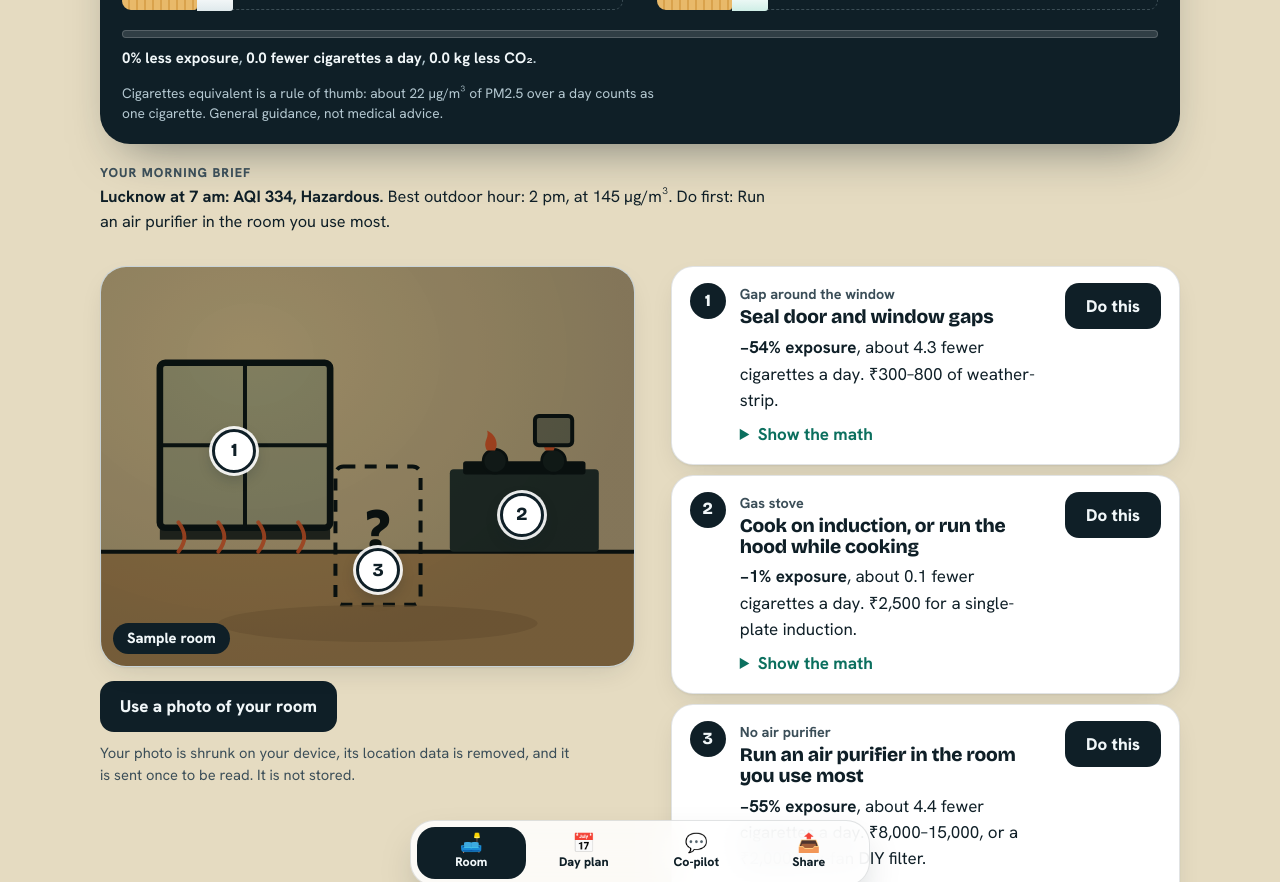
Test: shared links carry choices only › Copy a link puts only choices in the link and says so
(page scrolled)
Click the button "1".
click(234, 451)  # box [212,429,256,473]
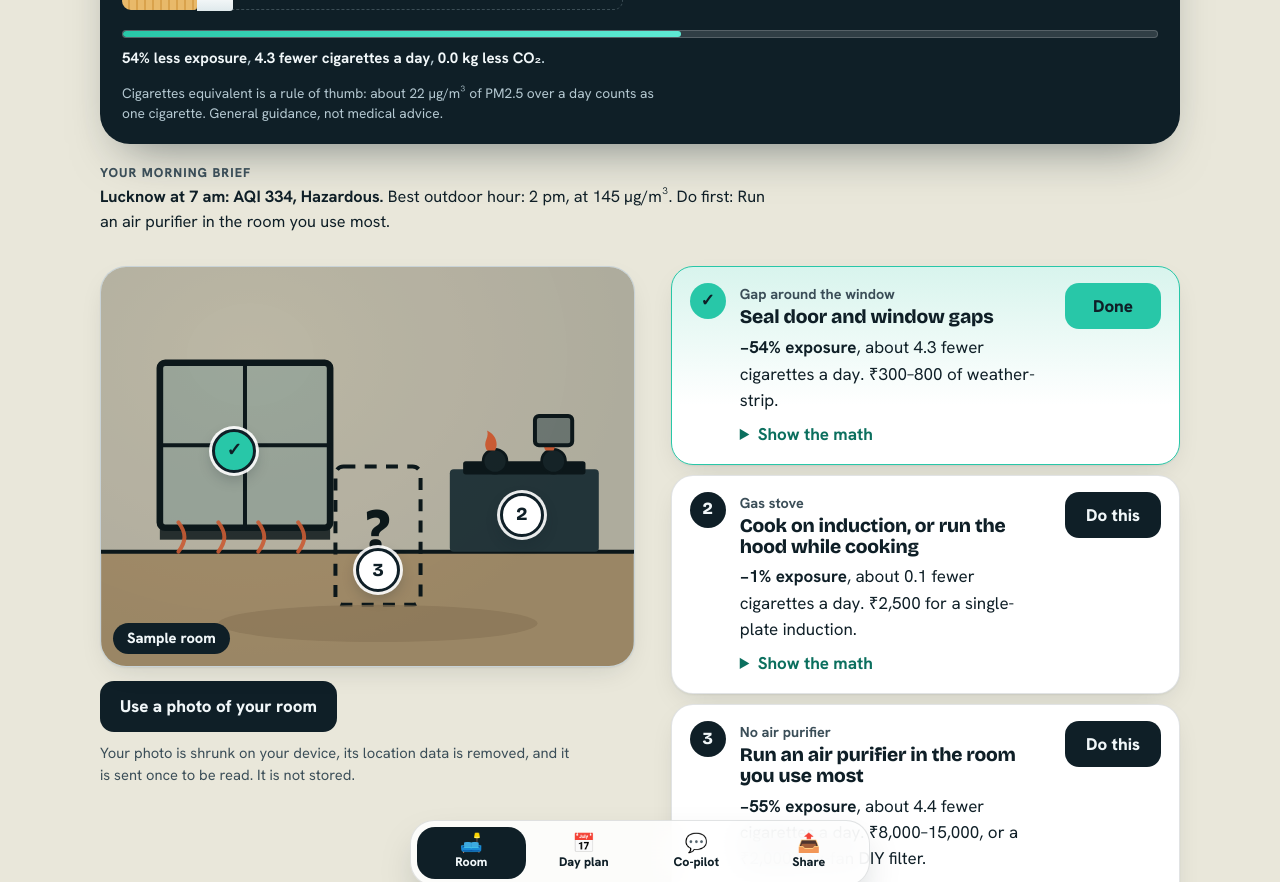
Click the button "📤 Share".
click(809, 853)  # box [754,827,863,879]
(page scrolled)
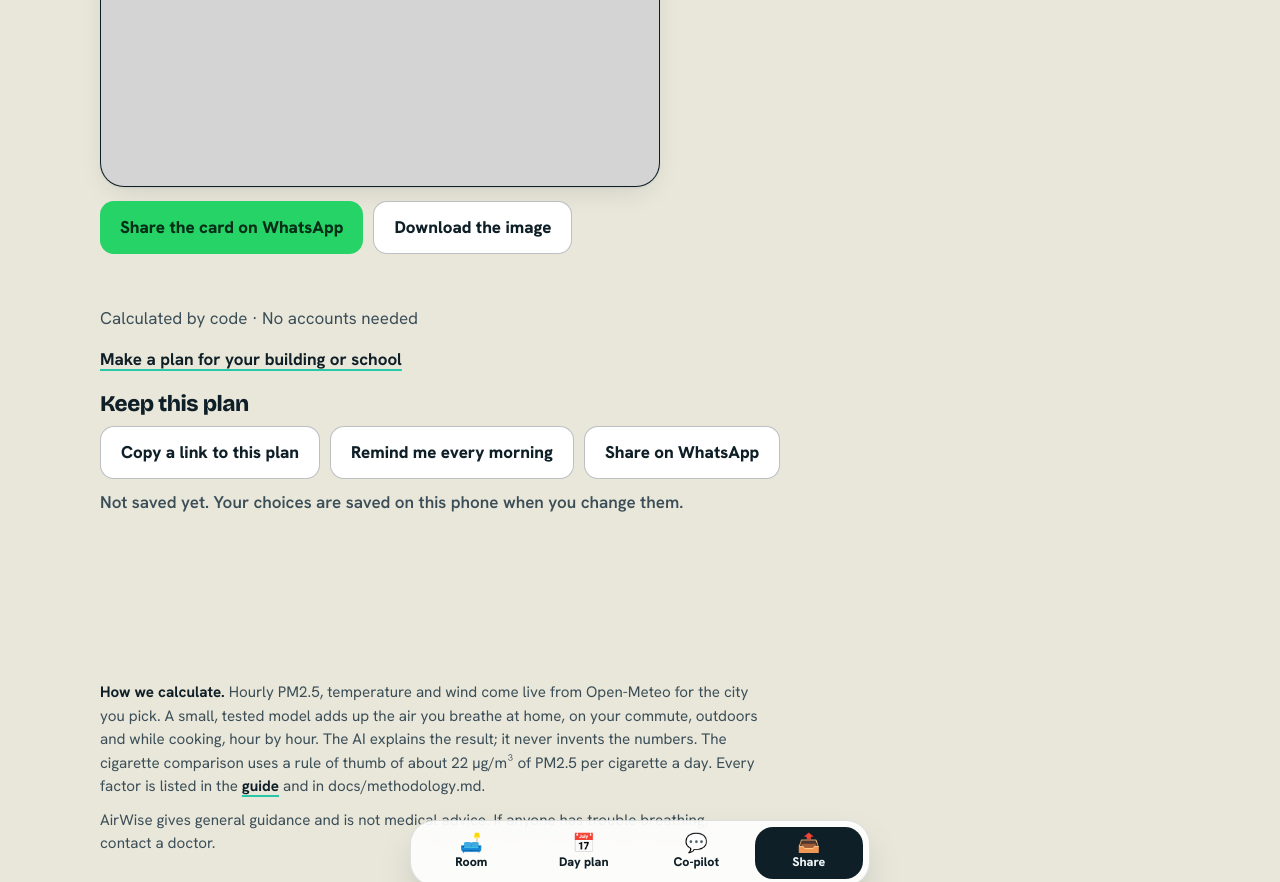
Click the button "Copy a link to this plan".
click(210, 452)  # box [100,426,320,479]
(page scrolled)
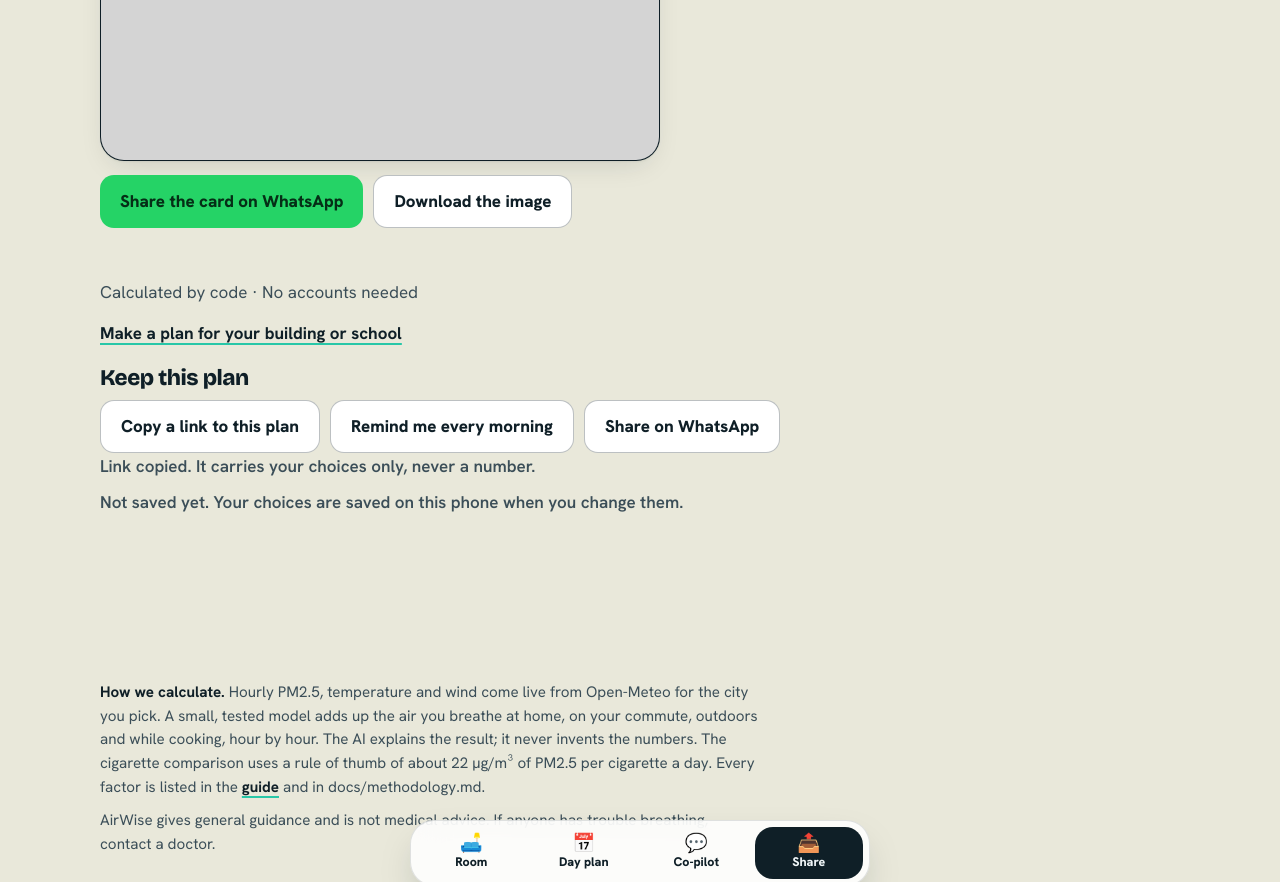
Result: the text "Link copied. It carries your choices only, never a number." is shown at [100,455,535,477]
